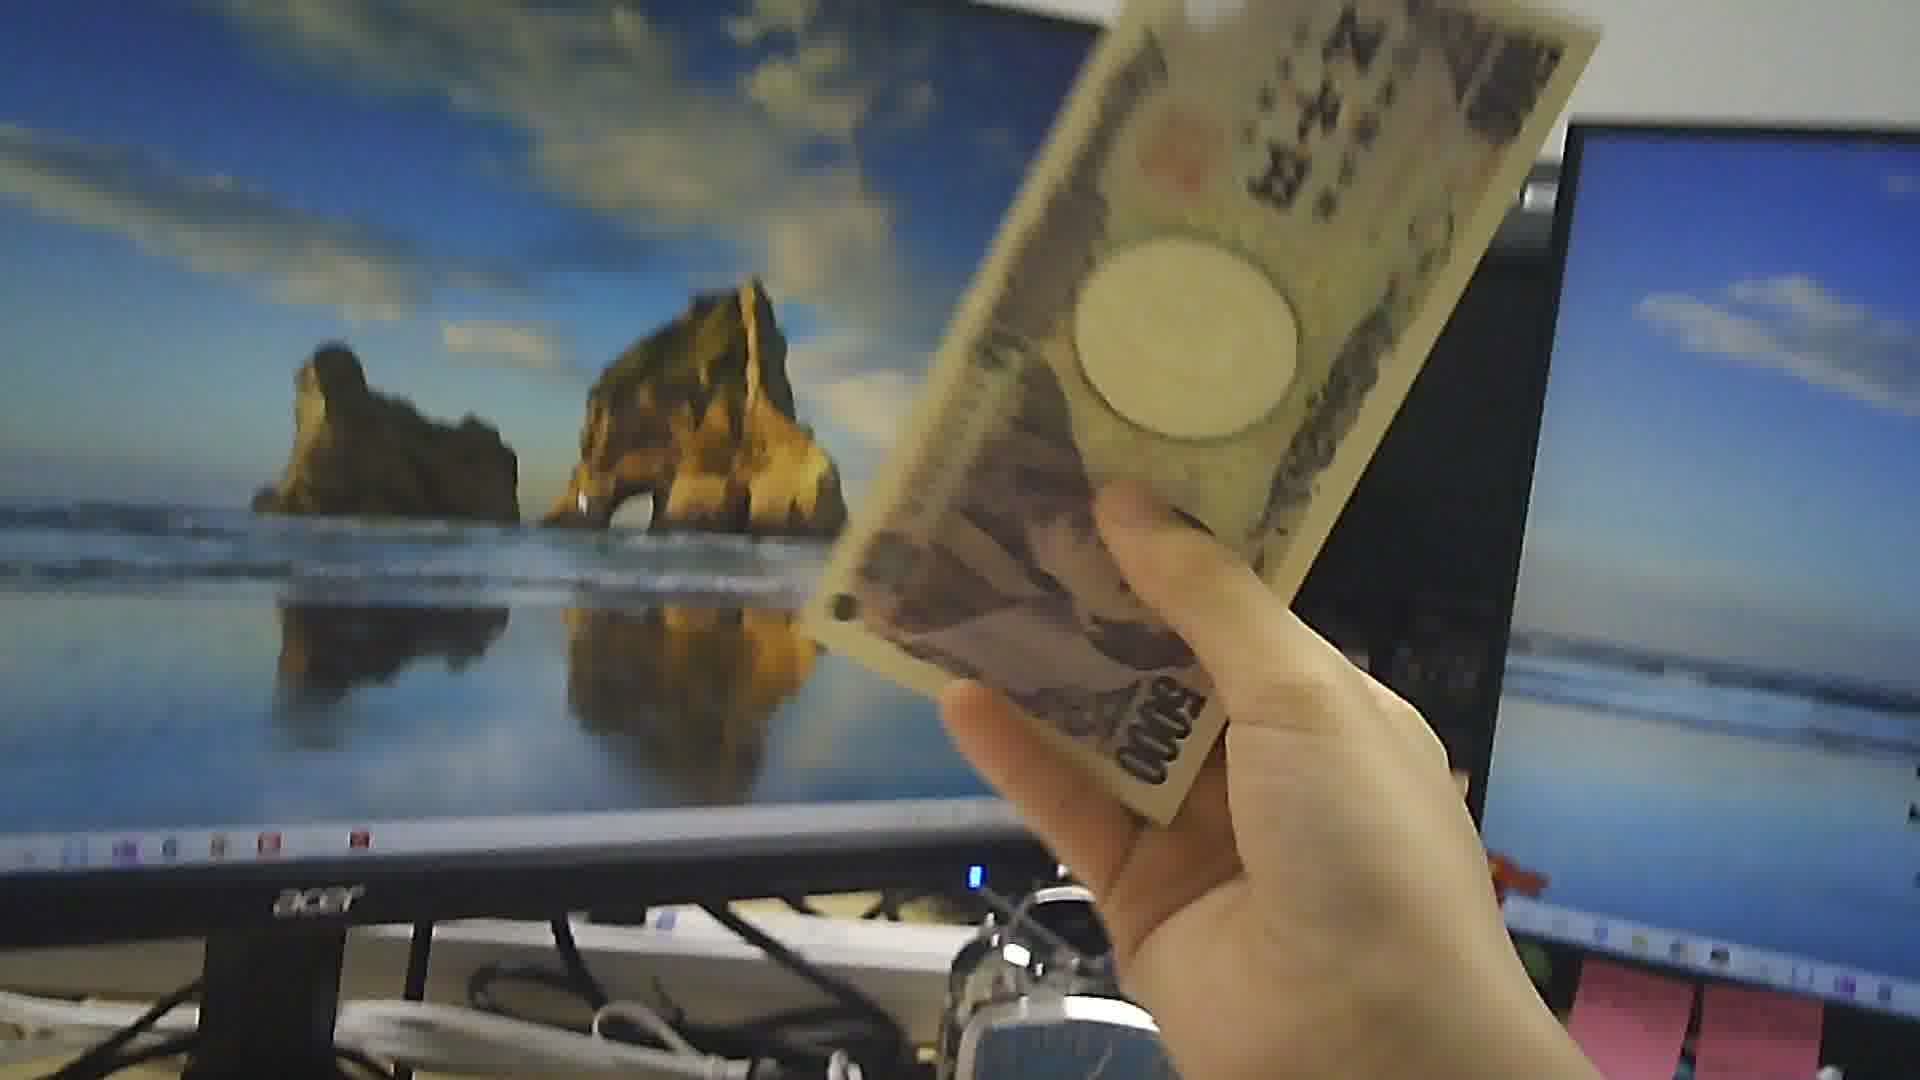5,000 Yen: (847, 3, 1565, 820)
